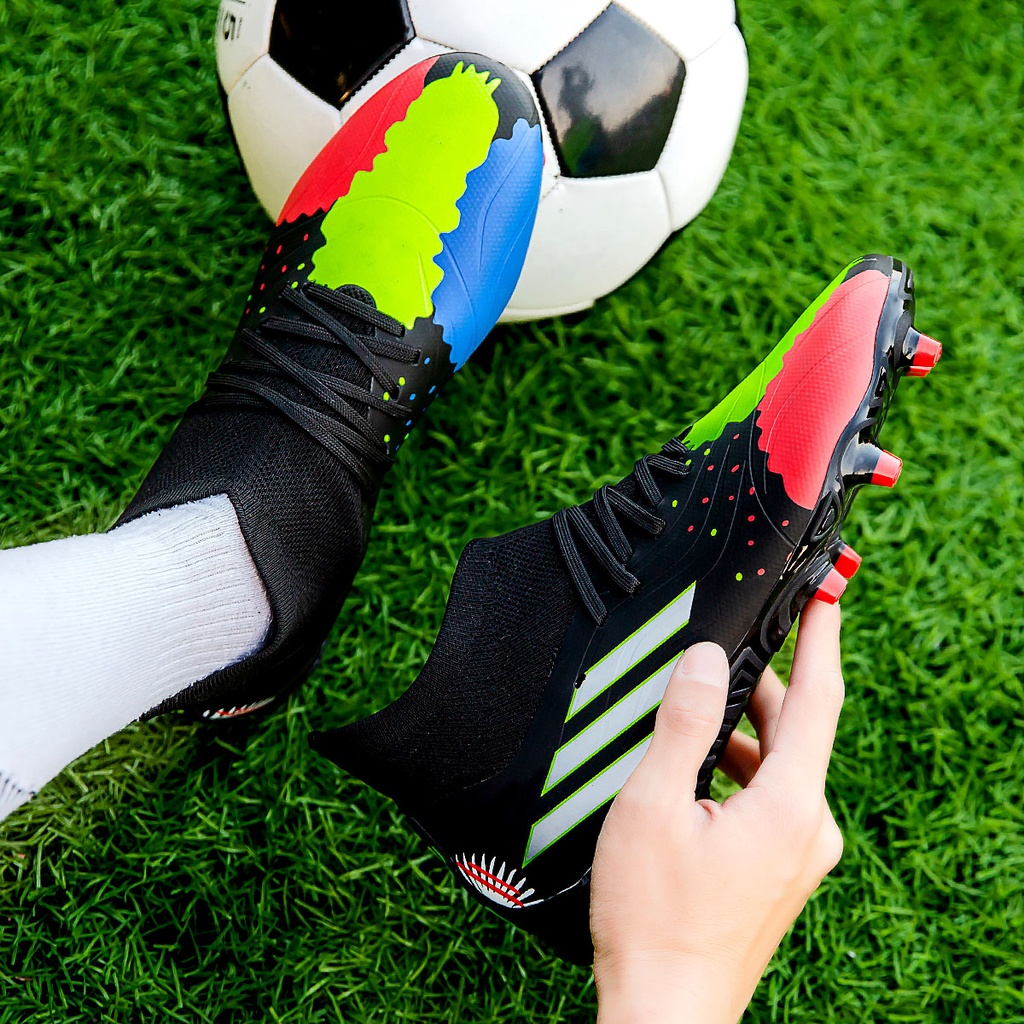soccer shoes: (302, 255, 943, 976), (104, 52, 546, 730)
